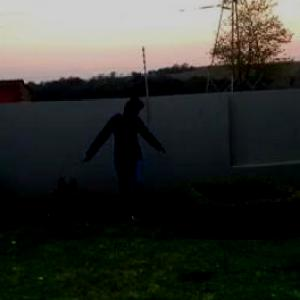land: (75, 94, 178, 236)
